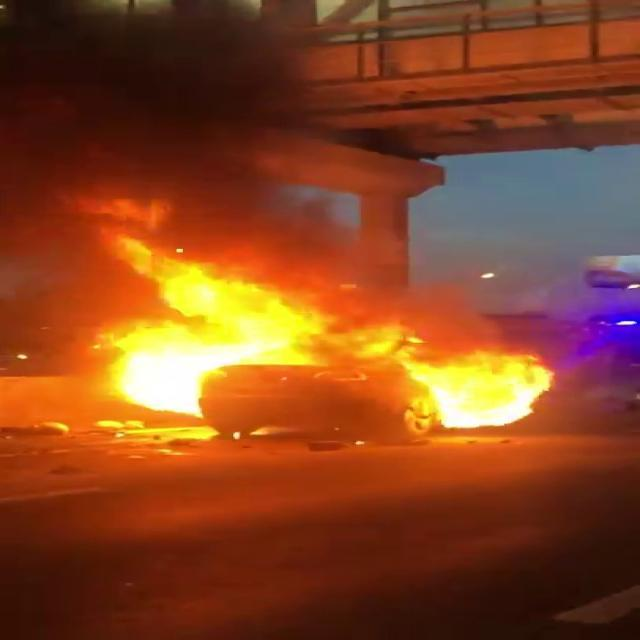Fire: (44, 228, 560, 444)
Smoke: (0, 0, 424, 216)
